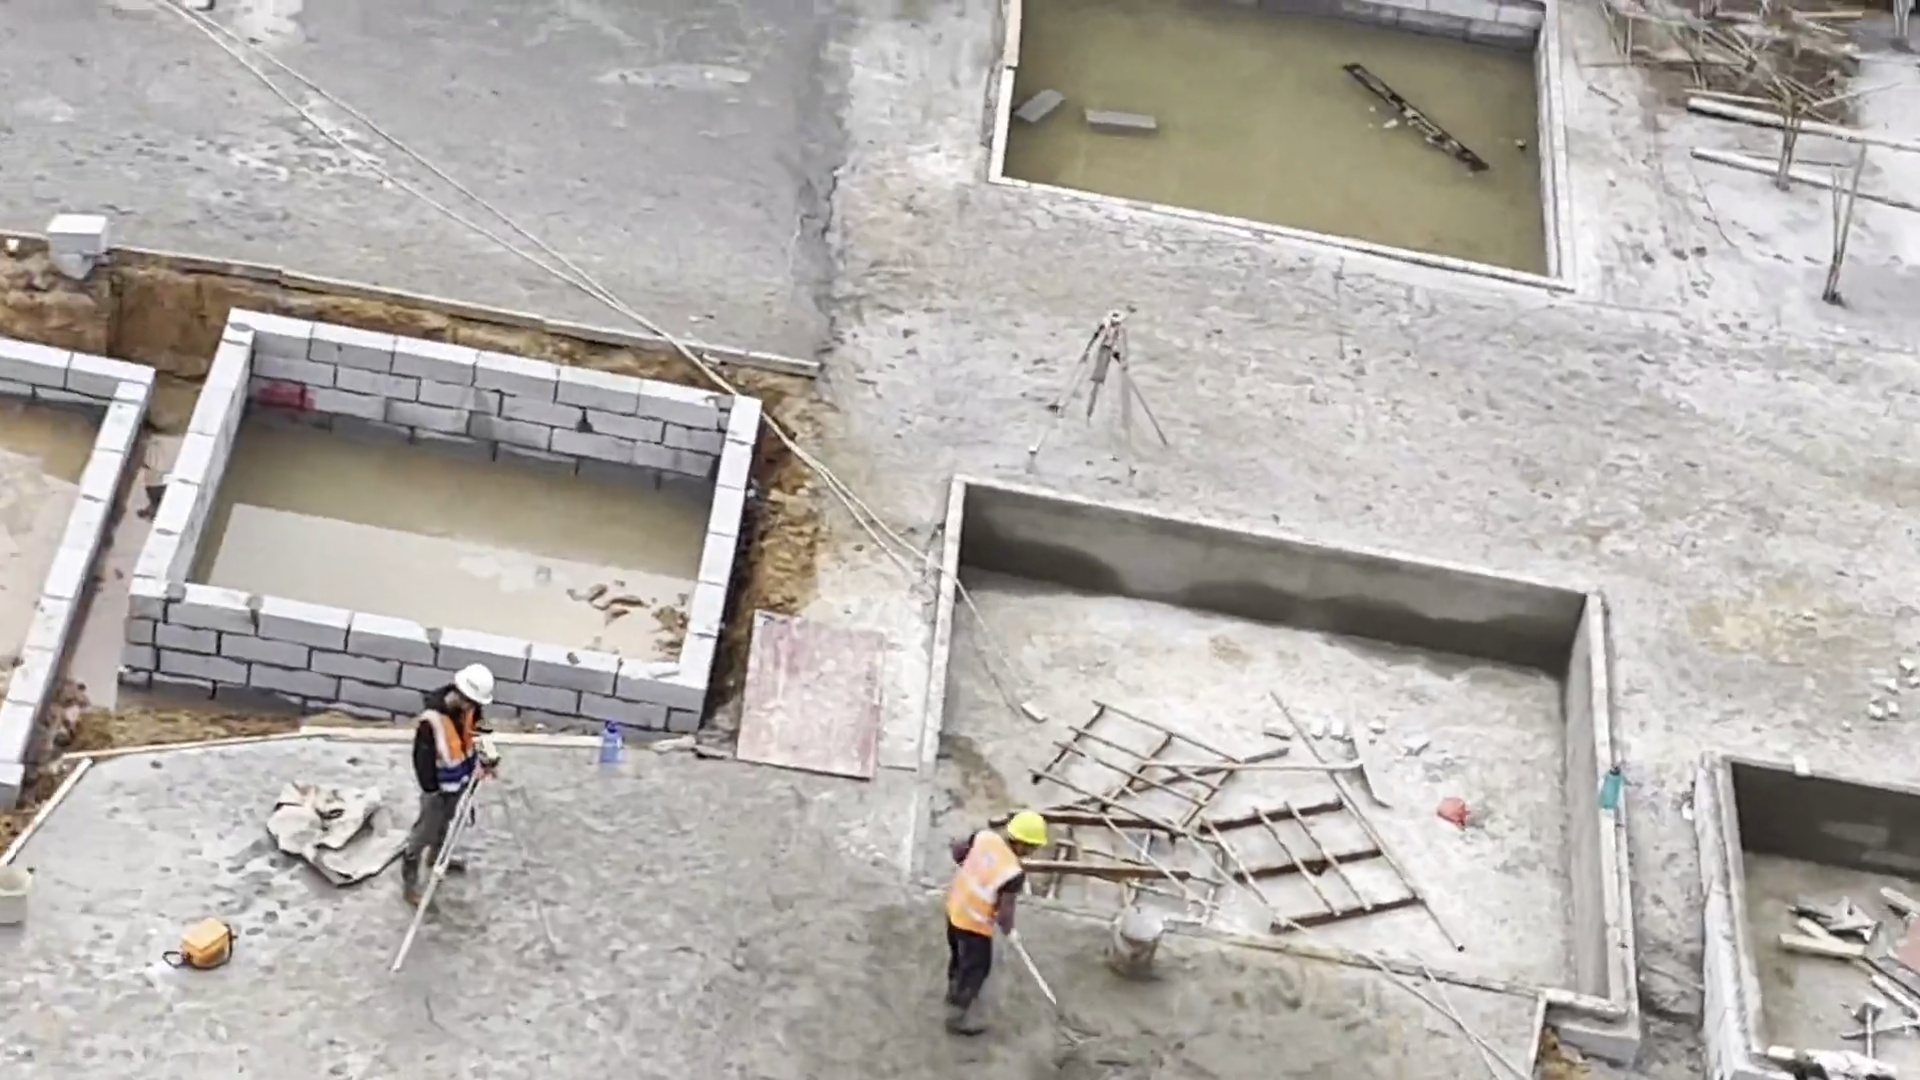brick: (247, 312, 714, 486), (167, 586, 677, 731), (126, 320, 248, 668), (673, 393, 748, 710), (60, 378, 141, 577), (3, 578, 74, 777), (5, 336, 144, 391)
helmet: (452, 666, 495, 710), (1008, 807, 1041, 845)
person: (937, 805, 1046, 1037), (402, 663, 494, 905)
vest: (951, 832, 1009, 934), (424, 698, 476, 790)
